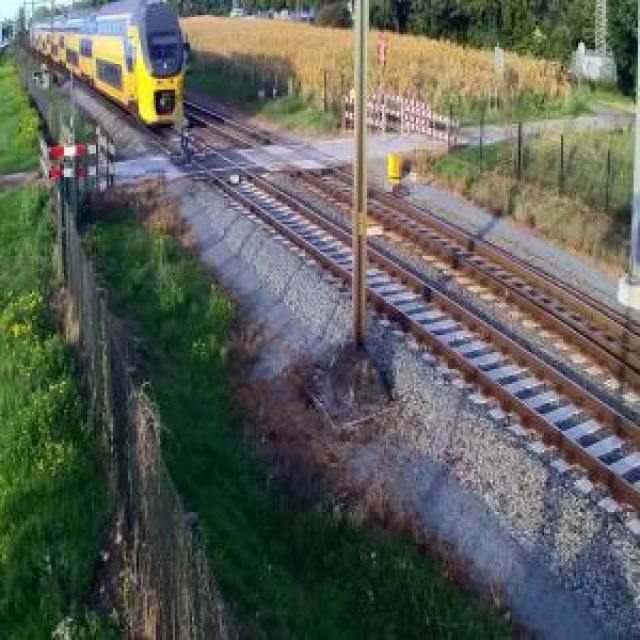rail: (137, 123, 640, 538), (184, 86, 640, 404)
